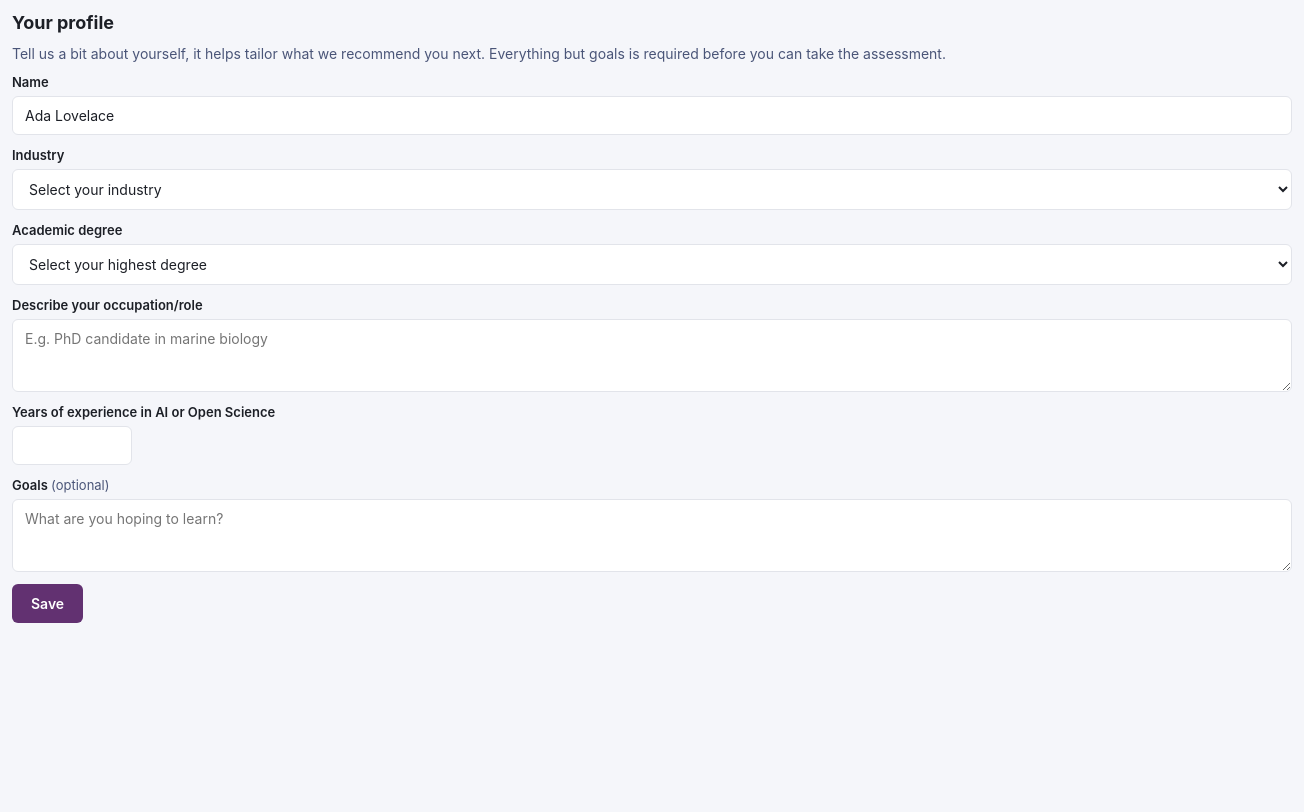
Test: ProfileForm › shows an error, and doesn't continue, when saving fails
Check: the field labelled "Name" is enabled, box [12,96,1292,135]
Select "Government" in the dropdown labelled "Industry" at (652, 190), box [12,169,1292,210]
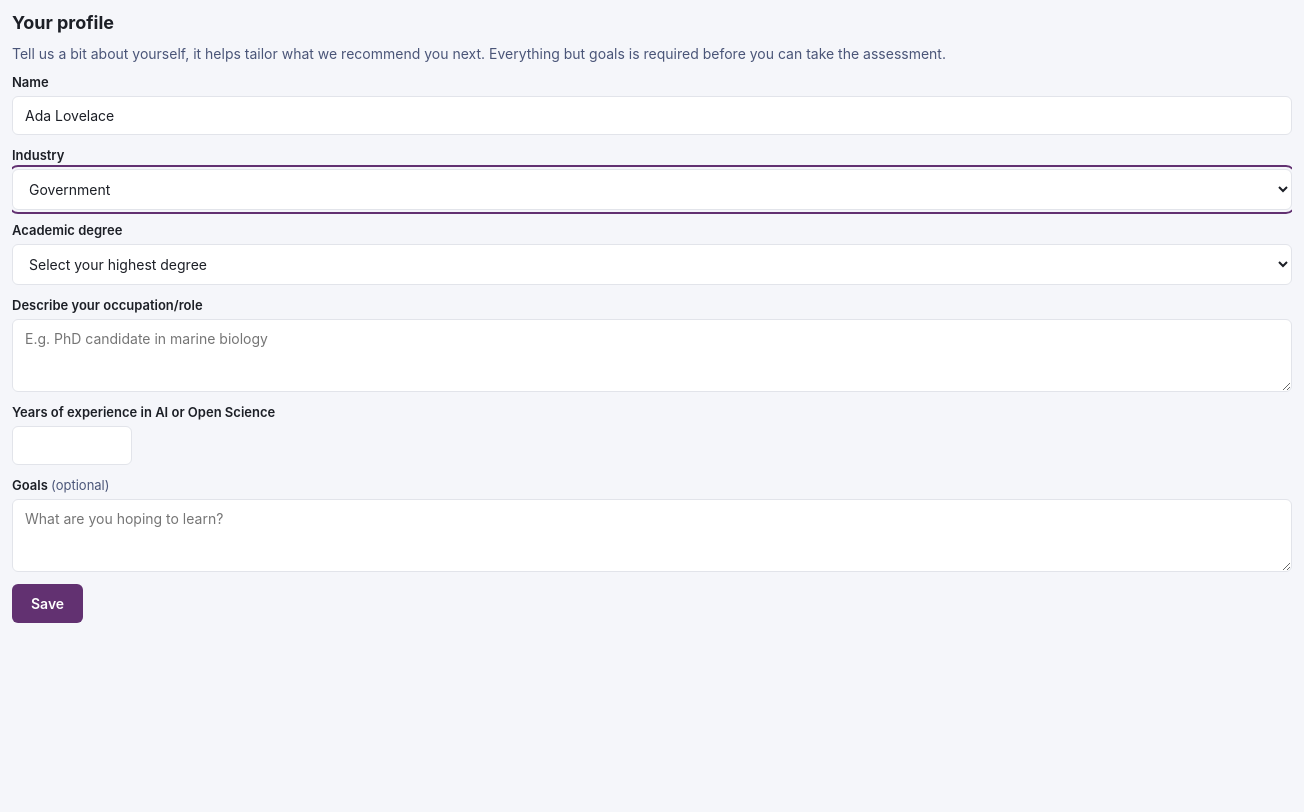
Select "Master's" in the dropdown labelled "Academic degree" at (652, 264), box [12,244,1292,285]
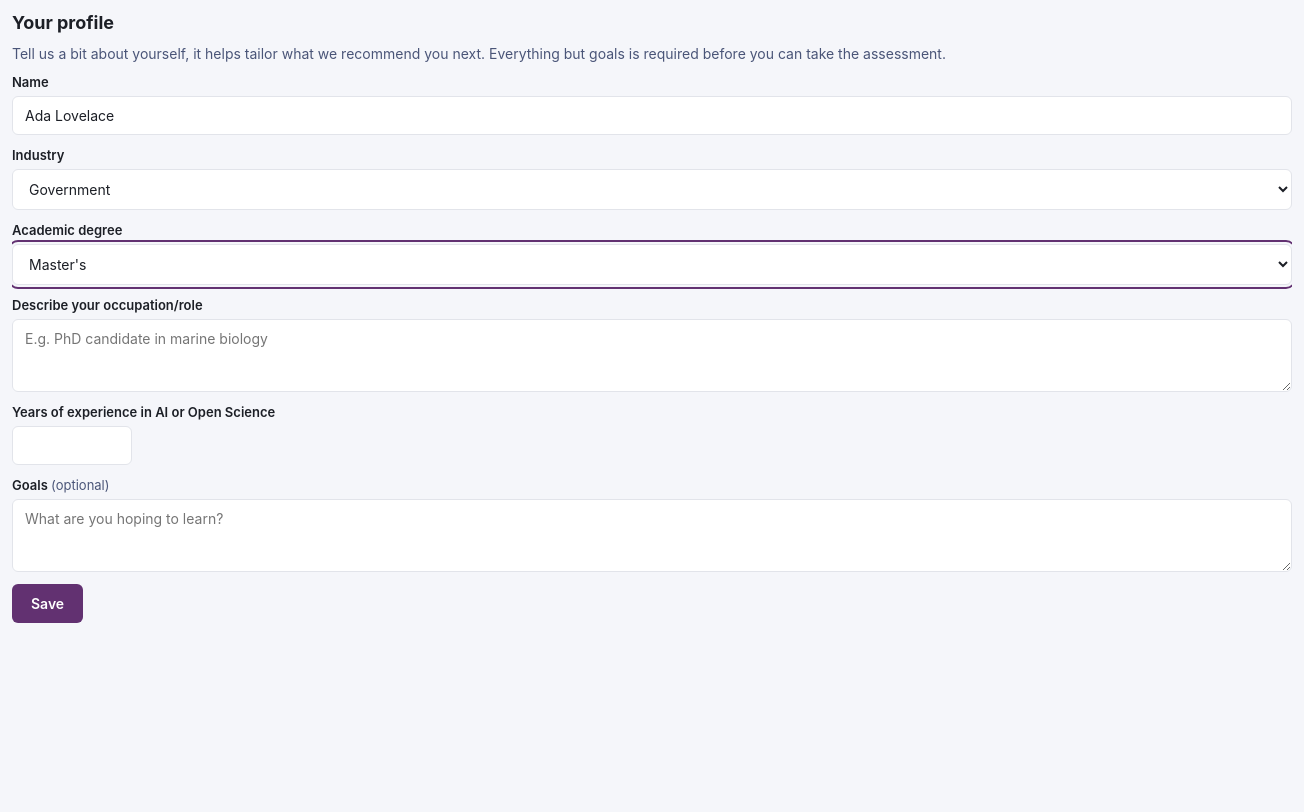
Type "  Data steward  " into the text box labelled "Describe your occupation/role" at (652, 356), box [12,319,1292,392]
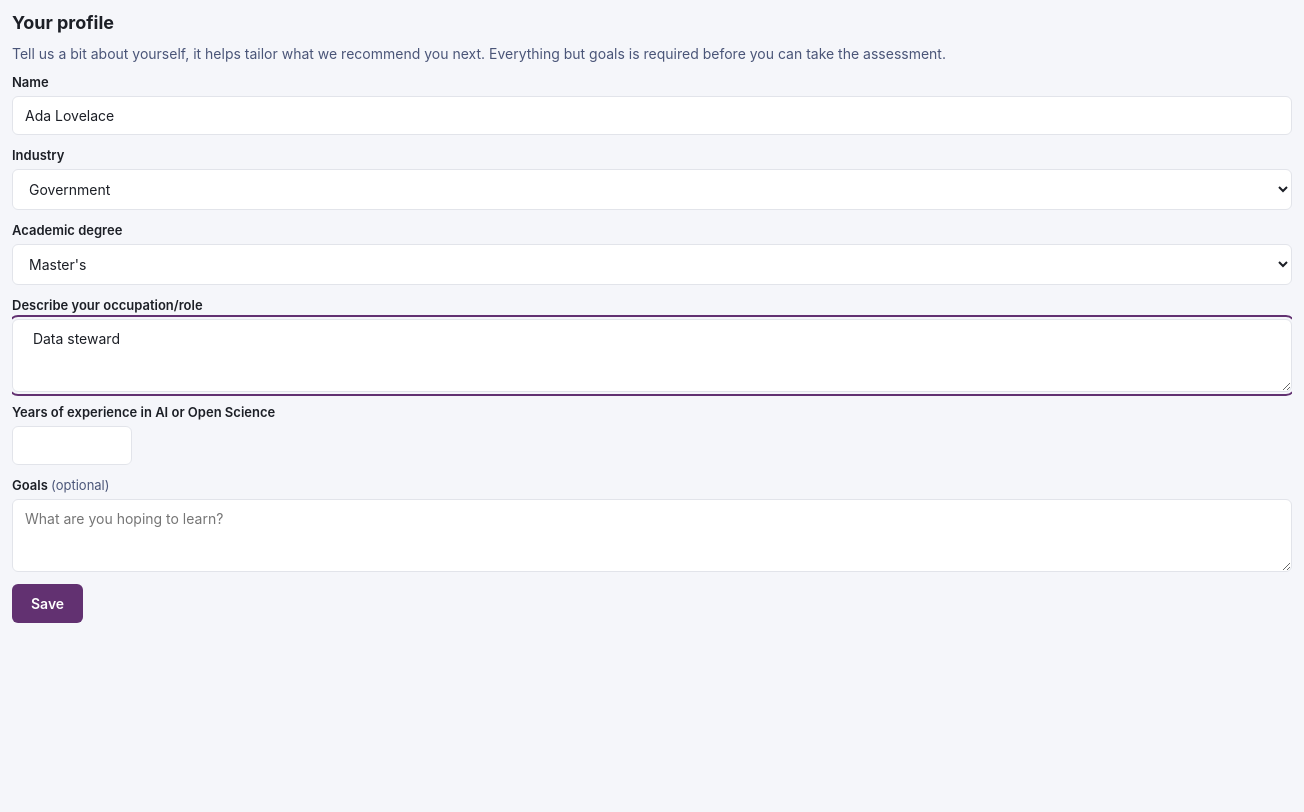
Type "2" into the number field labelled "Years of experience in AI or Open Science" at (72, 446), box [12,426,132,465]
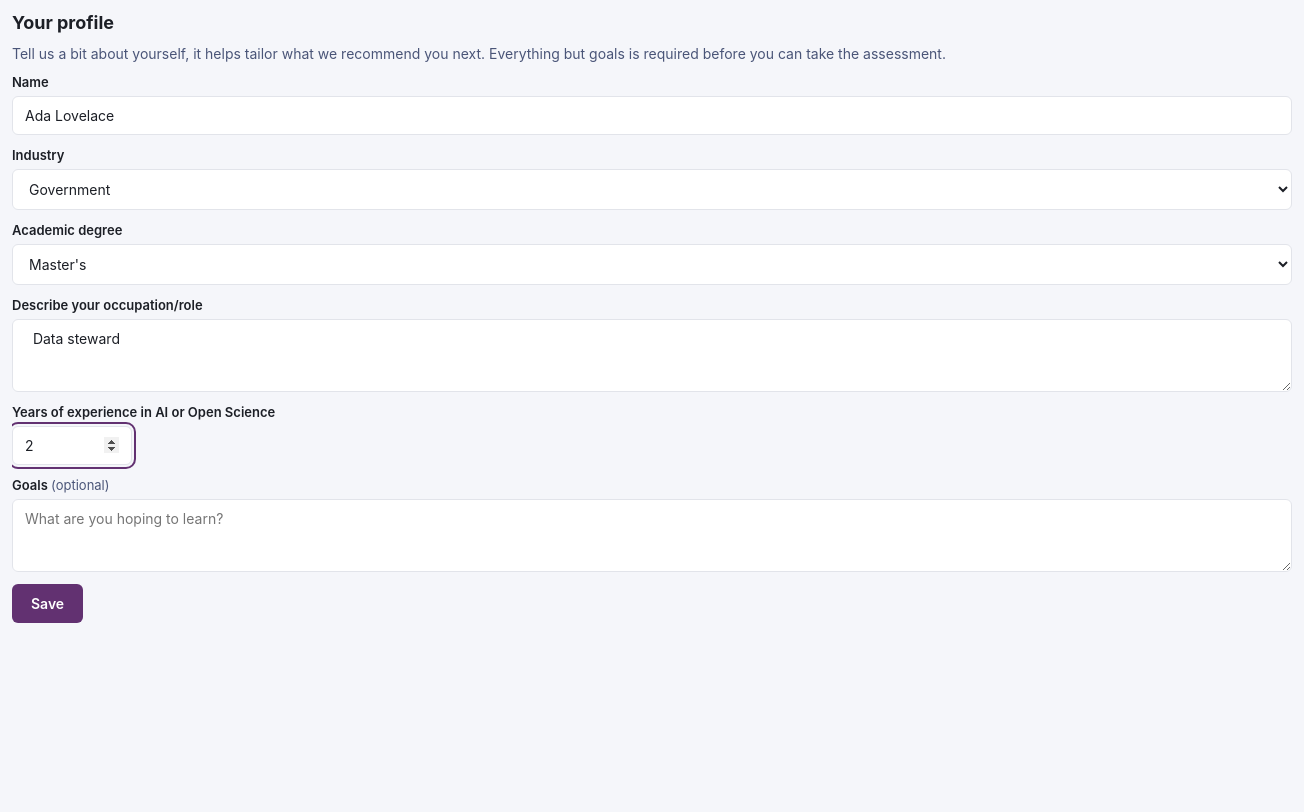
Click the button "Save" at (48, 604), box [12,584,83,623]
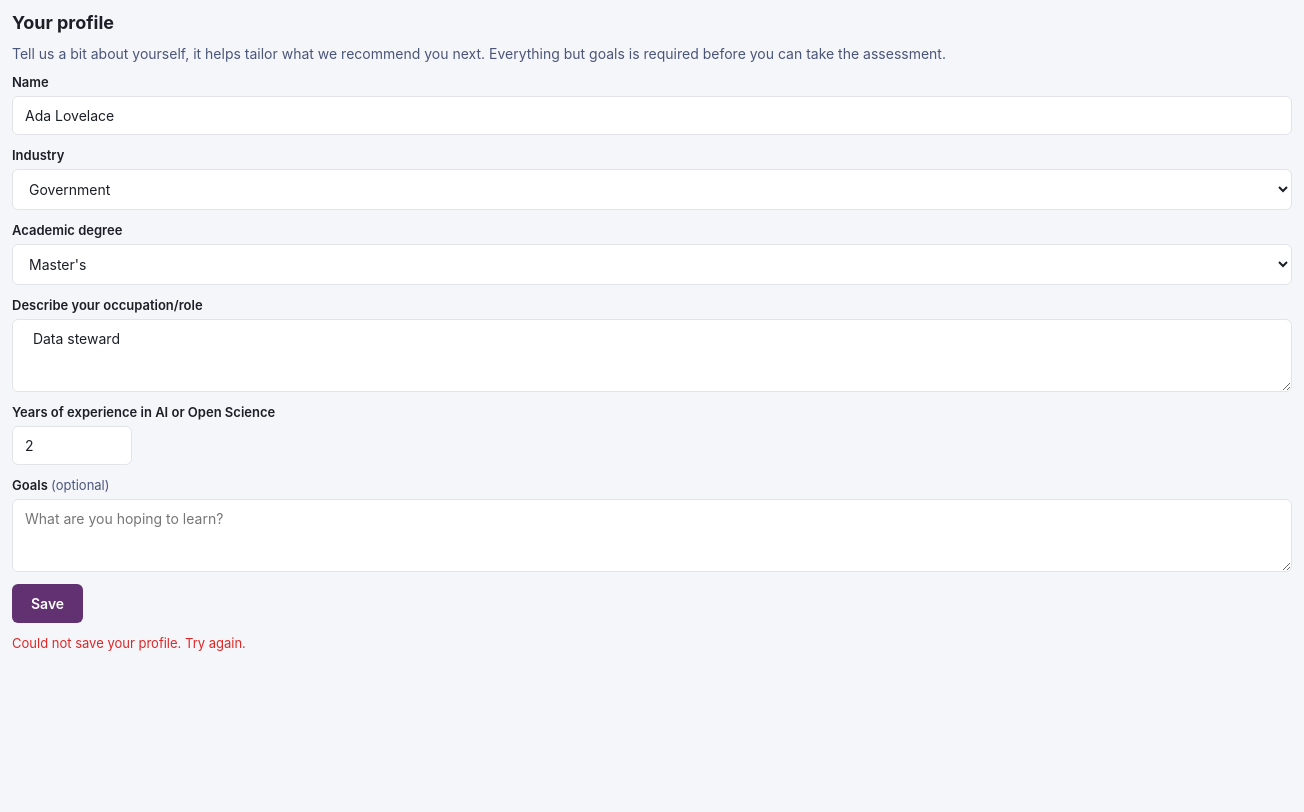
Check: the text "Could not save your profile. Try again." is shown, box [12,635,246,651]
